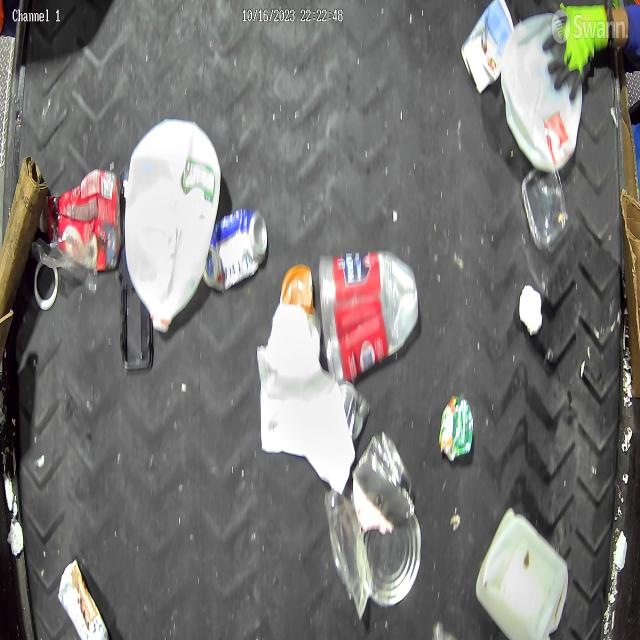can: (352, 432, 415, 536), (362, 508, 422, 607), (204, 208, 268, 298)
milk_jug: (122, 118, 222, 328), (501, 12, 583, 172), (476, 506, 569, 640)
